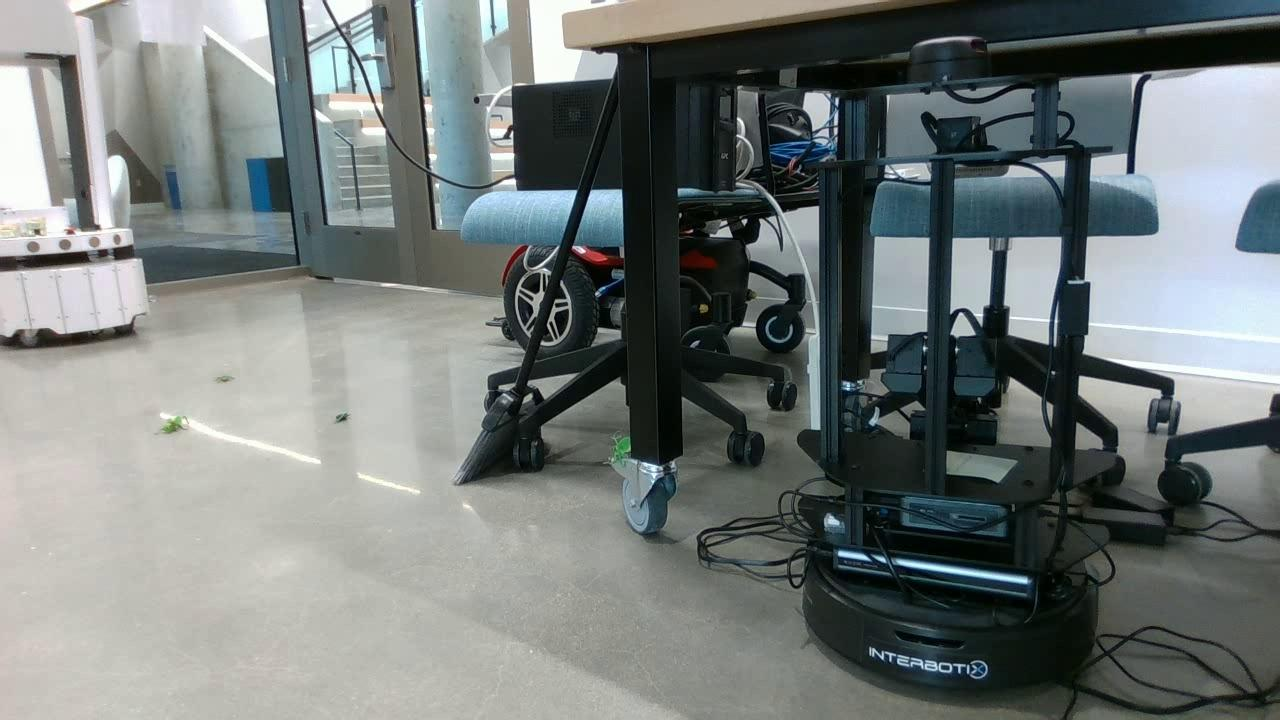grasshopper: (161, 416, 190, 433)
